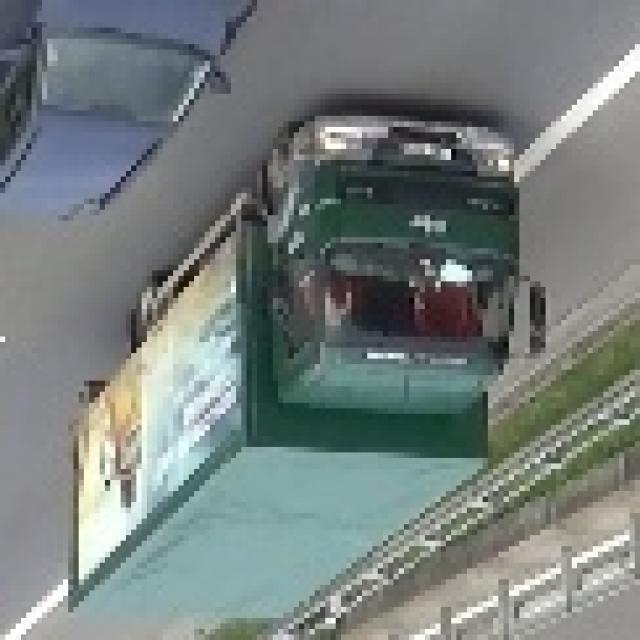Truck: (62, 116, 540, 634)
